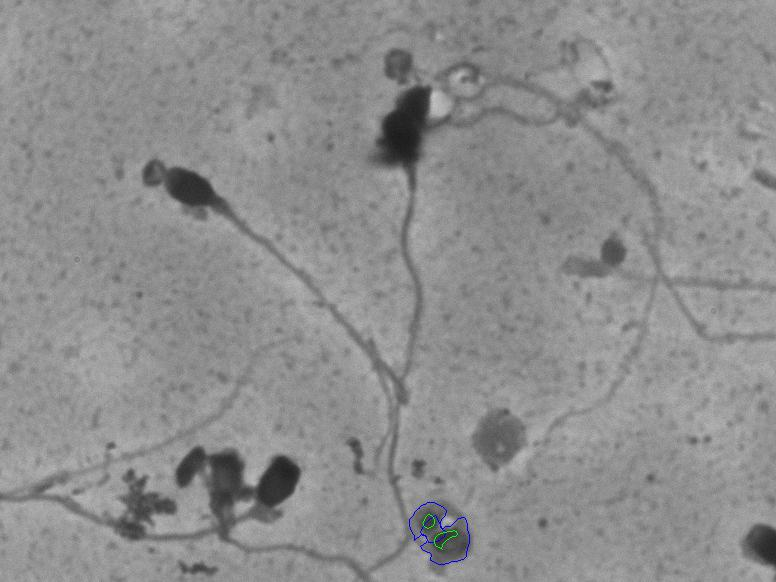Abnormal: (114, 156, 358, 423), (370, 94, 448, 510)
